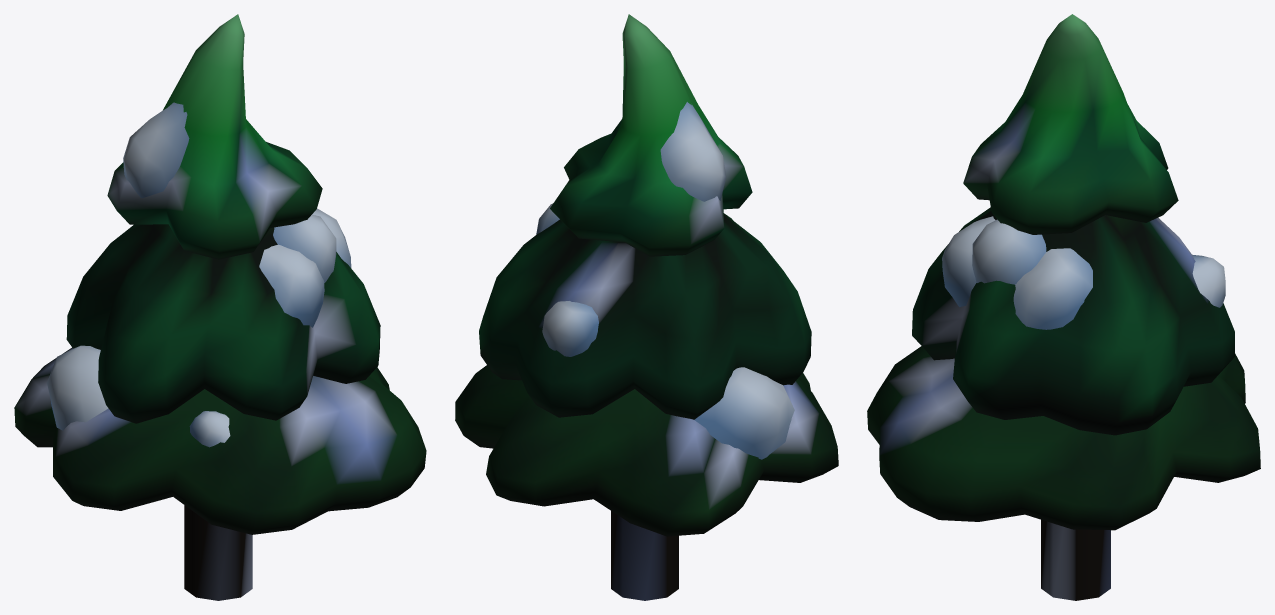
File: Tree_01.fbx
The picture shows the model from 3 angles, left to right: view 1: azimuth 30°, elevation 25°; view 2: azimuth 150°, elevation 25°; view 3: azimuth 270°, elevation 25°; orthographic projection. The views are drawn at different scales.
Parts seen in each view (by area): view 1: Tree_01; view 2: Tree_01; view 3: Tree_01.
Part boxes in pixels (x1,y1,x2,y2): Tree_01: (14,14,426,600); Tree_01: (455,14,838,600); Tree_01: (867,14,1260,600).
Bounding box in the file's own units: 3507 × 5605 × 3443.
